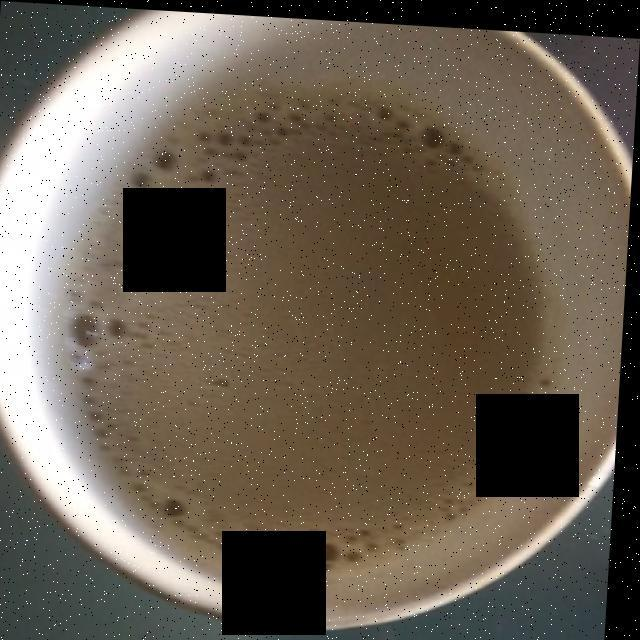coffee: (50, 56, 579, 570)
